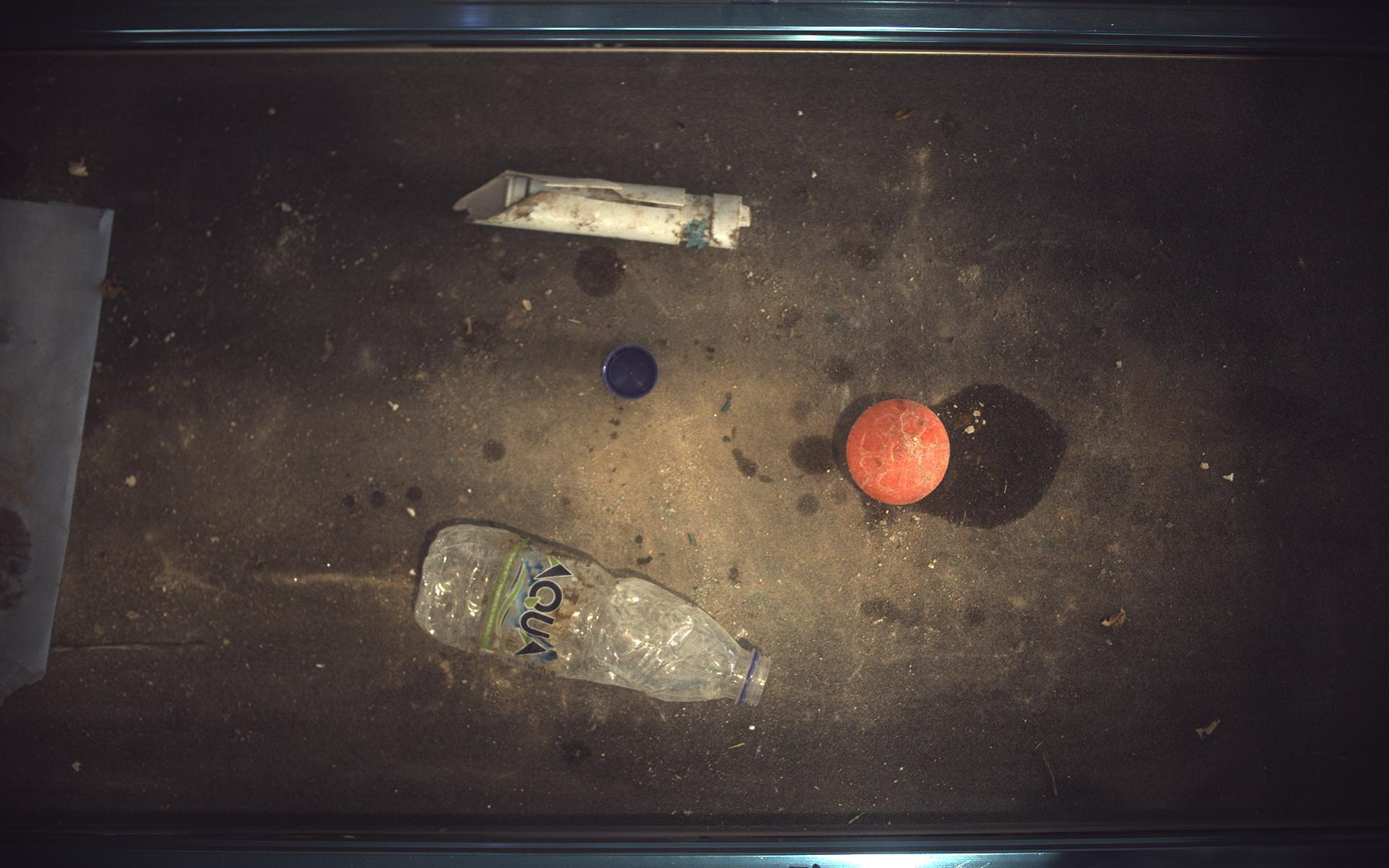general_w: (415, 524, 772, 706), (603, 345, 659, 399)
plastic: (453, 169, 752, 248)
